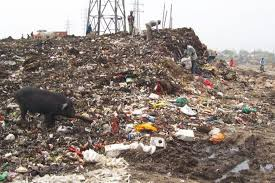garbage: (129, 75, 275, 181), (1, 129, 249, 183), (74, 42, 178, 165), (2, 40, 145, 84)
